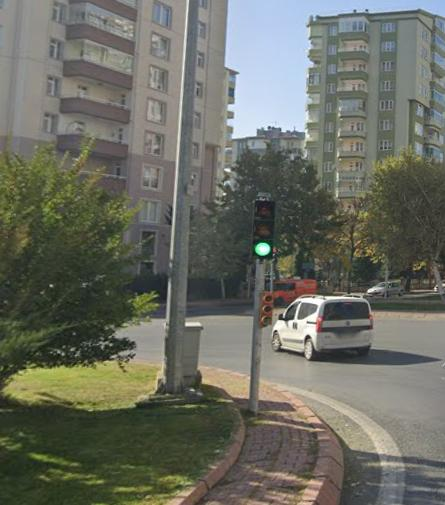greenlight: (255, 202, 274, 263)
